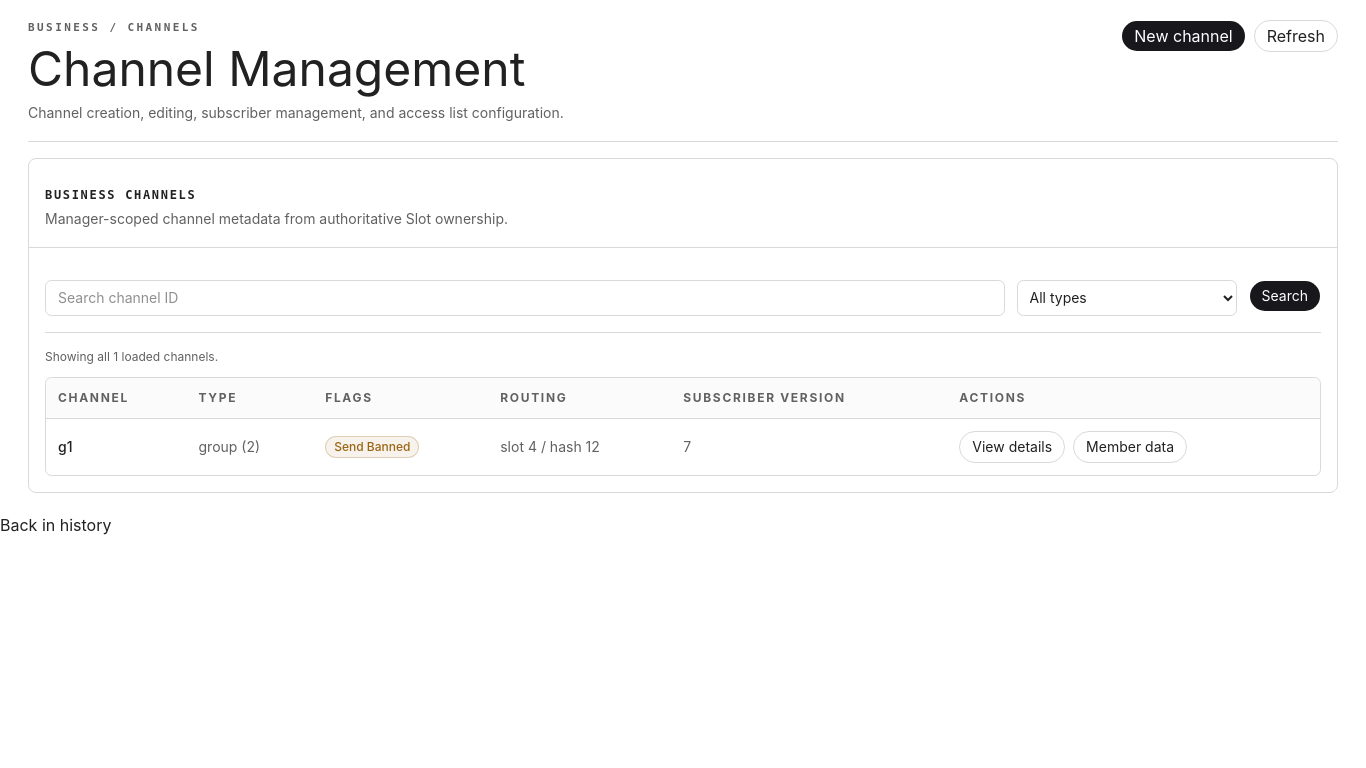
Test: opens detail and switches member tabs
Click the button with aria-label "View details for channel g1".
click(1012, 446)  # box [959,430,1065,462]
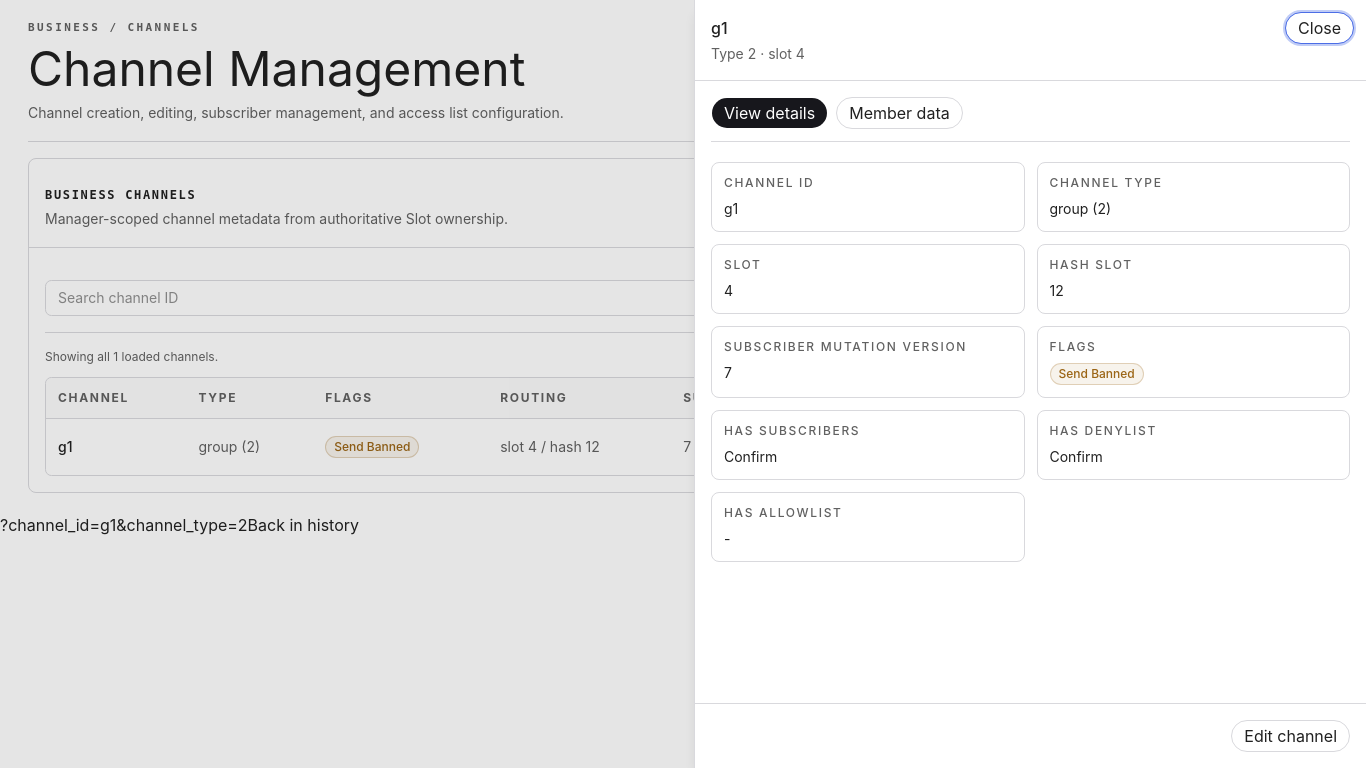
Expected: the text "Subscriber mutation version" is shown, [724,339,967,354]
Click the button "Member data".
click(899, 113)  # box [836,97,963,129]
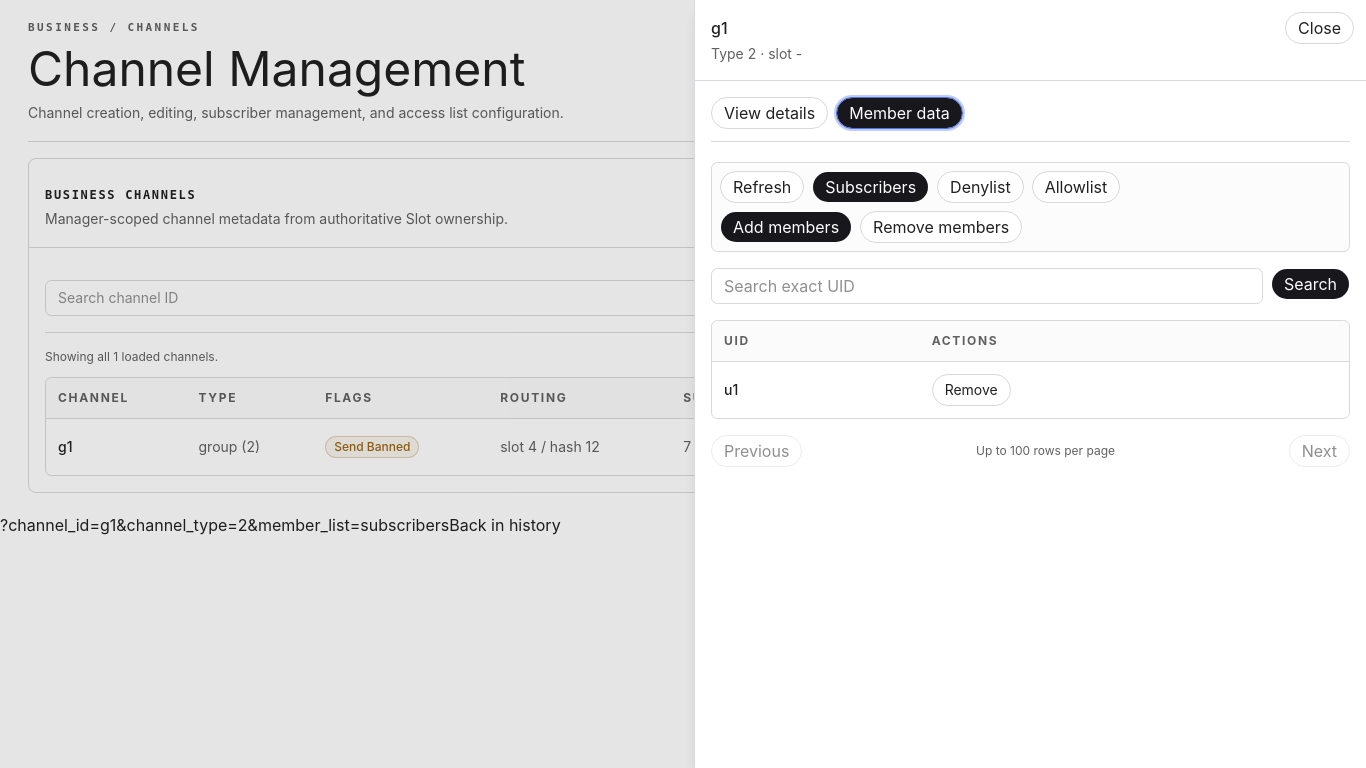
Expected: the link "u1" is shown, [724,381,738,398]
Click the button "Allowlist".
click(1076, 187)  # box [1032,171,1120,203]
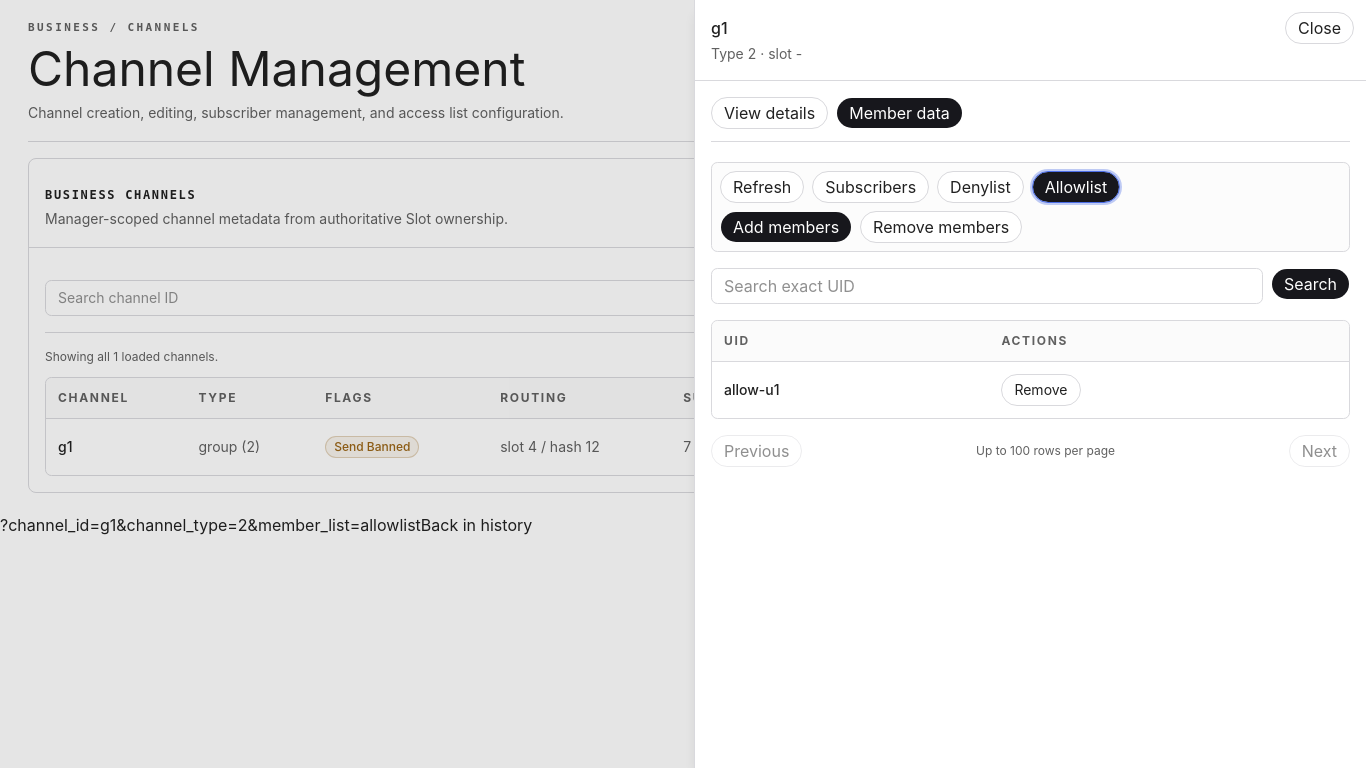
Expected: the link "allow-u1" is shown, [724,381,780,398]
